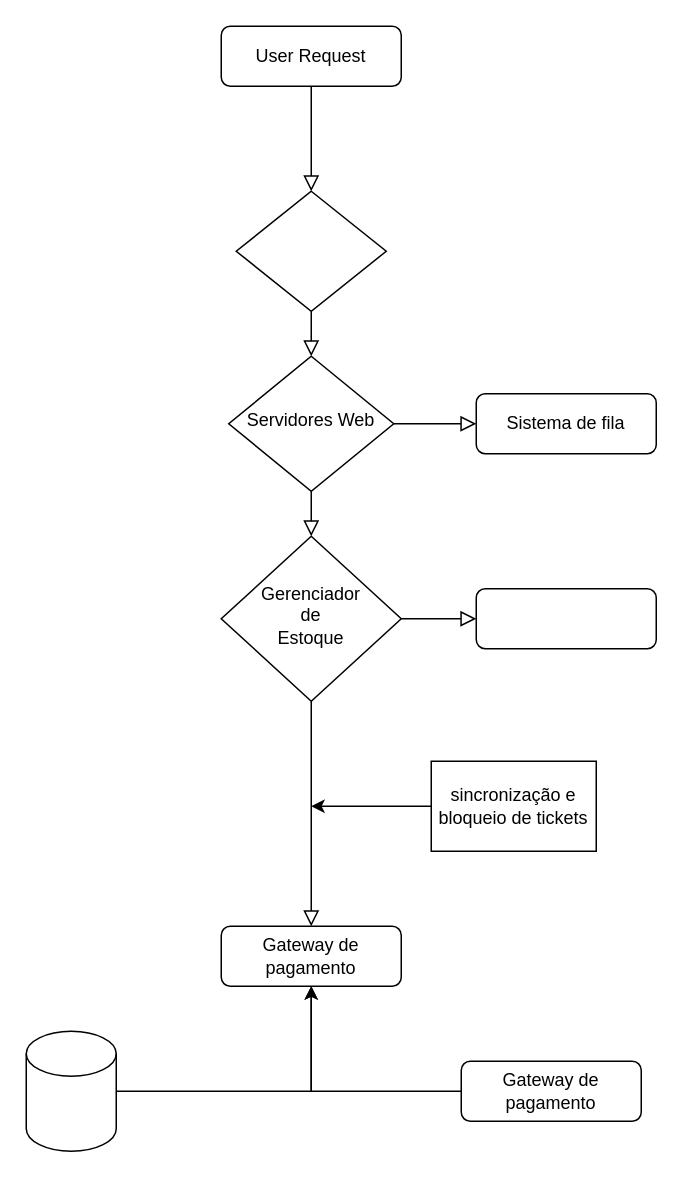
Image size: 683x1178. Some labels were removed from this diagram. The centre of each missing label's shape, as x and y in pixels:
"BD" goes at point 70,1090.
"Load Balancer" goes at point 310,250.
"Replace Bulb" goes at point 565,618.
